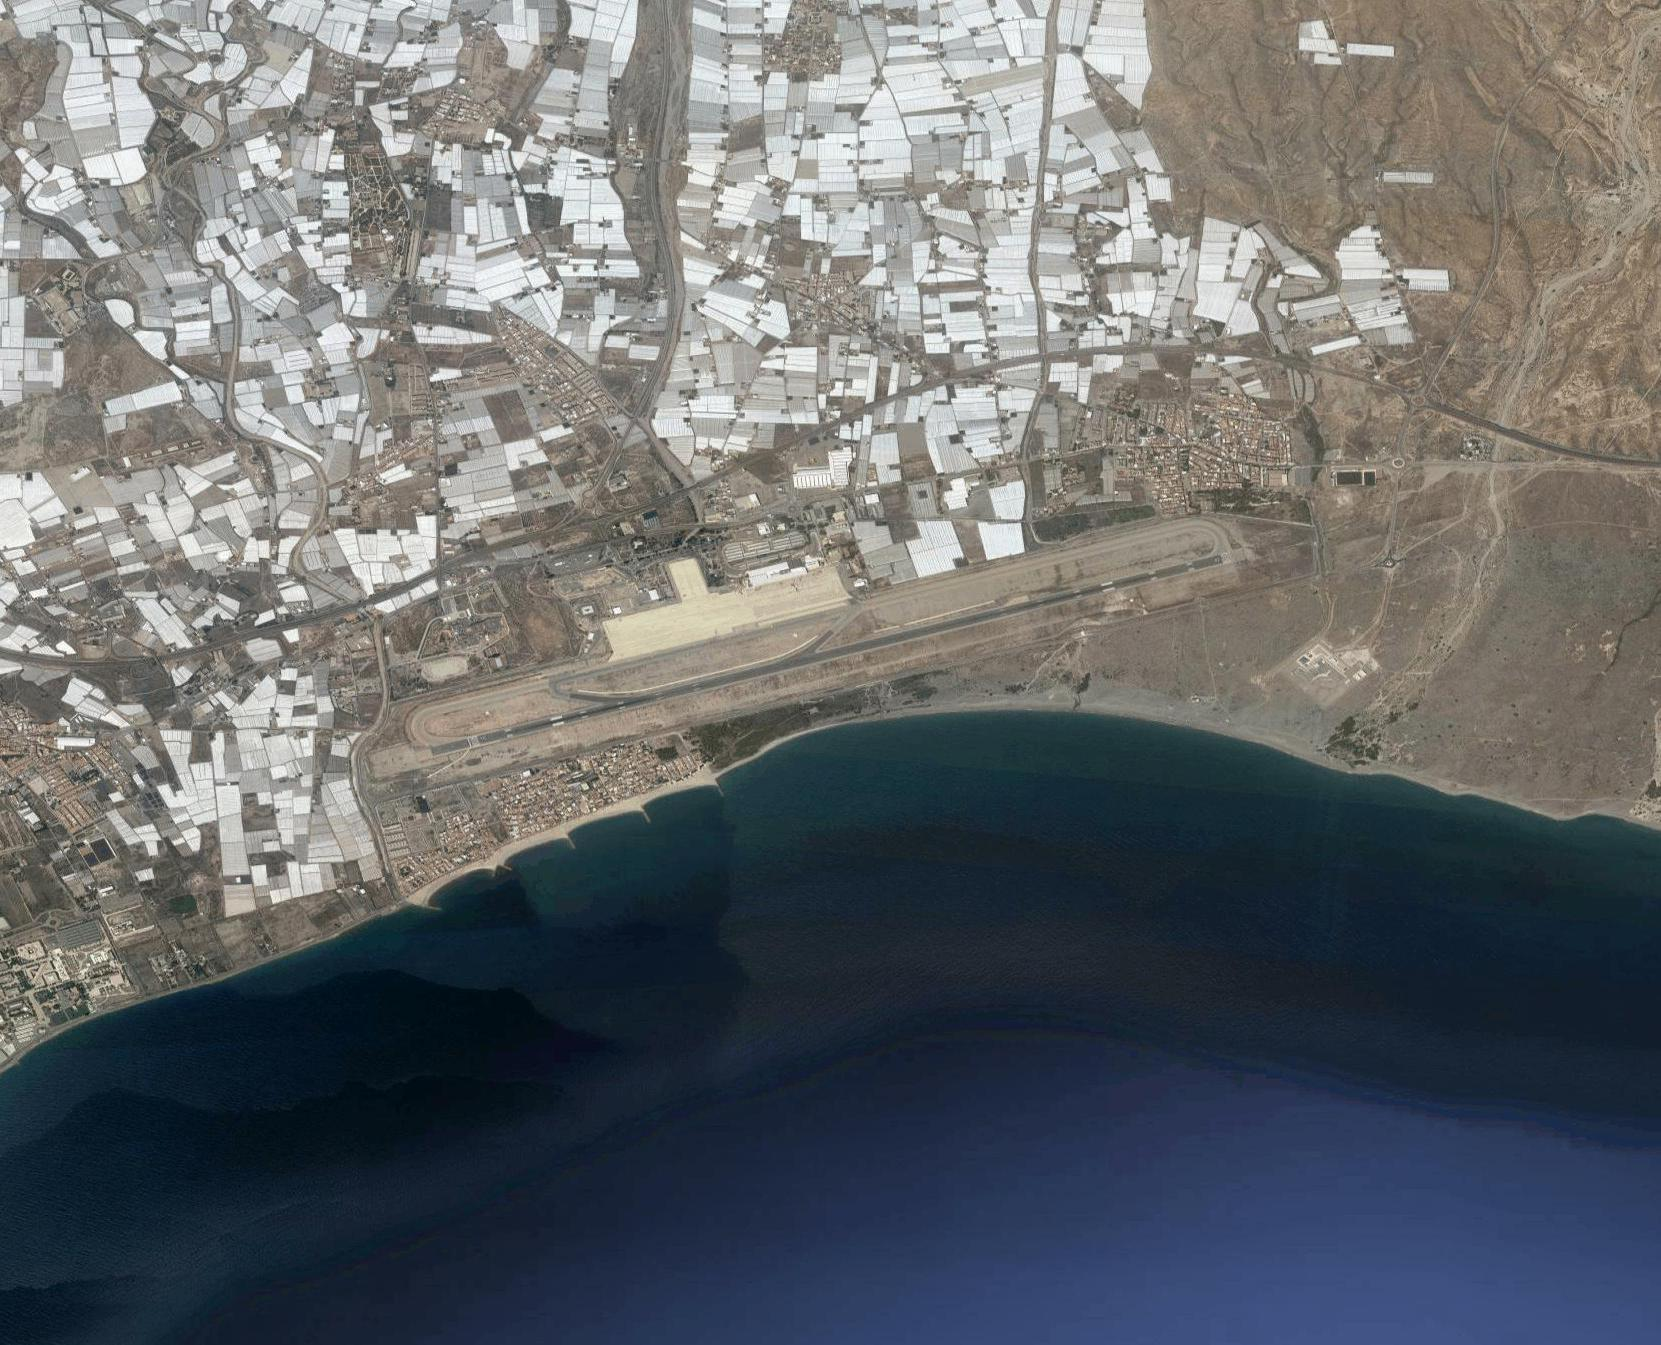airport: (391, 508, 1245, 777)
motorway: (634, 3, 695, 398), (1408, 384, 1537, 461), (1, 624, 151, 690), (739, 398, 868, 468), (567, 403, 651, 502), (1533, 416, 1660, 478), (1281, 349, 1407, 410), (1145, 331, 1281, 382), (1010, 320, 1146, 371), (870, 351, 1006, 402), (257, 589, 362, 646), (362, 550, 469, 607), (472, 502, 578, 559), (152, 613, 258, 670), (649, 457, 734, 505)
